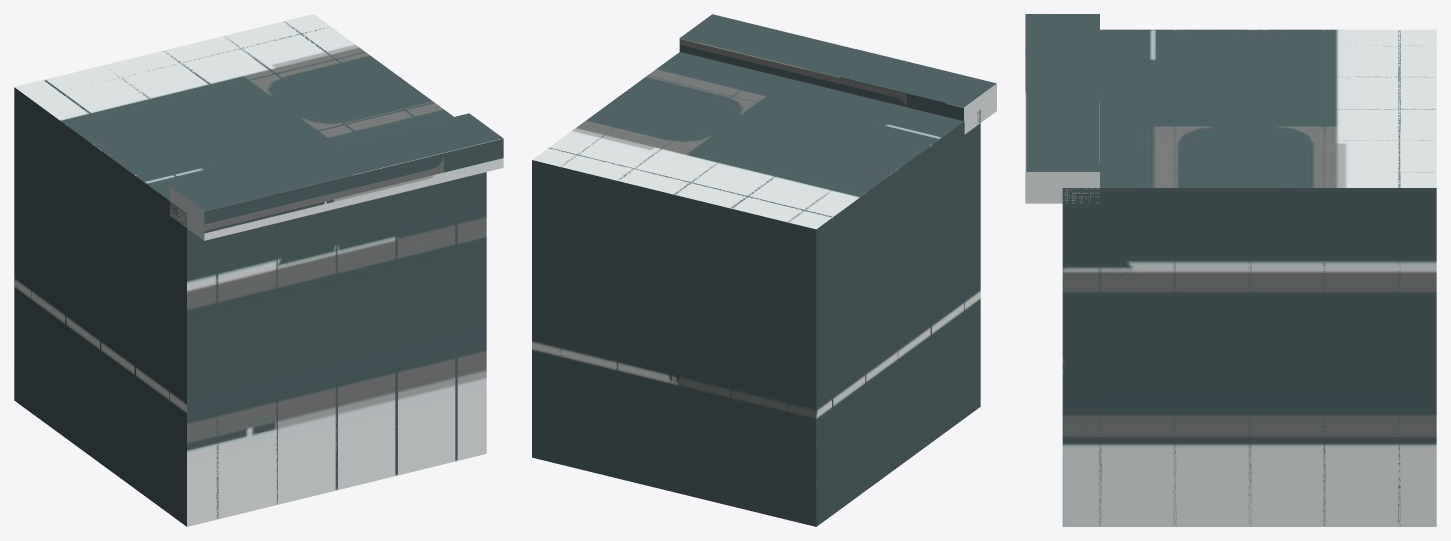
File: PR_pool_tile_block.glb
The picture shows the model from 3 angles, left to right: view 1: azimuth 30°, elevation 25°; view 2: azimuth 150°, elevation 25°; view 3: azimuth 270°, elevation 25°; orthographic projection. The views are drawn at different scales.
Visible parts, largest first — view 1: PR_pool_tile_block; view 2: PR_pool_tile_block; view 3: PR_pool_tile_block.
Boxes of the visible parts, x1,y1,x2,y2 form: PR_pool_tile_block: [14, 14, 503, 526]; PR_pool_tile_block: [532, 14, 996, 526]; PR_pool_tile_block: [1025, 14, 1436, 526].
Bounding box in the file's own units: 1.5 × 1.57 × 1.65.
1 material, 1 textured.
